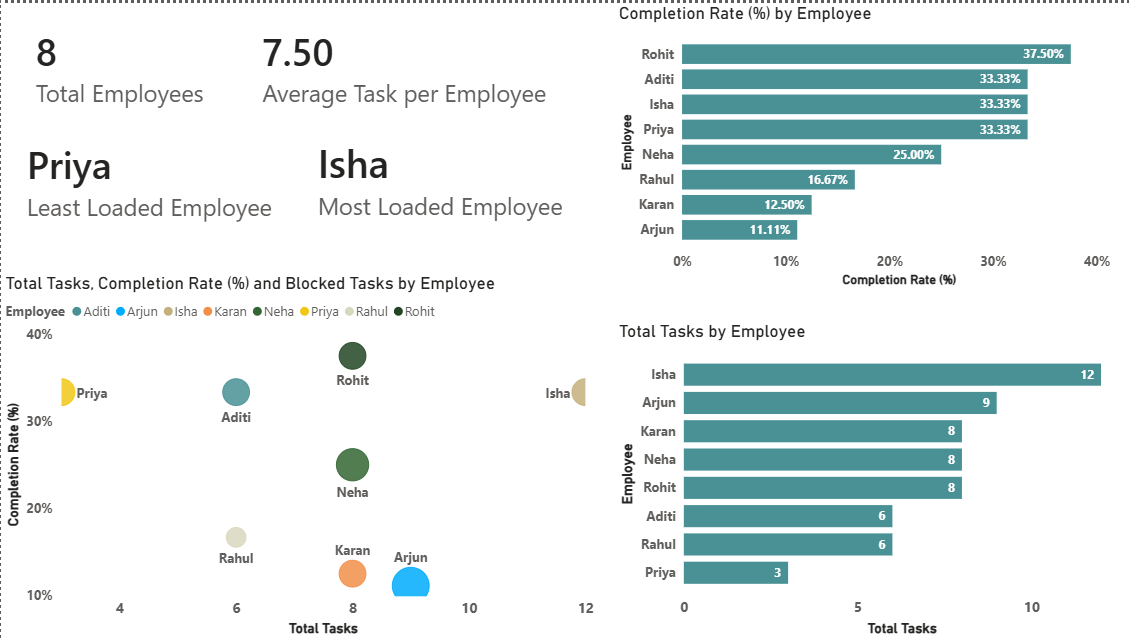

Layout of this report page (visuals, bound fields, positions):
{"tool":"powerbi","page":{"name":"Resource Analytics","canvas":[1280,720],"ordinal":2},"visuals":[{"type":"cardVisual","fields":{"Data":["CountNonNull(Dim_Employees.EmployeeID)"]},"box":[10,0,280,143.3],"z":0},{"type":"cardVisual","fields":{"Data":["Avg(Dim_Employees.Task per Employee)"]},"box":[266.7,0,391.7,143.3],"z":1000},{"type":"cardVisual","fields":{"Data":["Dim_Employees.Most Loaded Employee"]},"box":[328,125.9,346.2,147.4],"z":2000},{"type":"cardVisual","fields":{"Data":["Dim_Employees.Least Loaded Employee"]},"box":[0,126.7,350,146.7],"z":3000},{"type":"clusteredBarChart","fields":{"Category":["Dim_Employees.EmployeeName"],"Y":["Fact_Tasks.Total Tasks"]},"box":[693.3,360,586.7,360],"z":4000},{"type":"clusteredBarChart","fields":{"Category":["Dim_Employees.EmployeeName"],"Y":["Fact_Tasks.Completion Rate (%)"]},"box":[693.3,0,586.7,325],"z":5000},{"type":"scatterChart","fields":{"X":["Fact_Tasks.Total Tasks"],"Series":["Dim_Employees.EmployeeName"],"Size":["Fact_Tasks.Blocked Tasks"],"Y":["Fact_Tasks.Completion Rate (%)"]},"box":[0,305,675,415],"z":6000}]}

Visuals, with their boxes in screenshot pixels (x1, y1, x2, y2), scaled from the page's 1280x720 canvas onto the 1132x639 screenshot:
cardVisual - CountNonNull(Dim_Employees.EmployeeID): [left=9, top=0, right=256, bottom=127]
cardVisual - Avg(Dim_Employees.Task per Employee): [left=236, top=0, right=582, bottom=127]
cardVisual - Dim_Employees.Most Loaded Employee: [left=290, top=112, right=596, bottom=243]
cardVisual - Dim_Employees.Least Loaded Employee: [left=0, top=112, right=310, bottom=243]
clusteredBarChart - Dim_Employees.EmployeeName x Fact_Tasks.Total Tasks: [left=613, top=320, right=1131, bottom=638]
clusteredBarChart - Dim_Employees.EmployeeName x Fact_Tasks.Completion Rate (%): [left=613, top=0, right=1131, bottom=288]
scatterChart - Fact_Tasks.Total Tasks x Dim_Employees.EmployeeName: [left=0, top=271, right=597, bottom=638]
